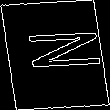N_E: (9, 33, 101, 77)
